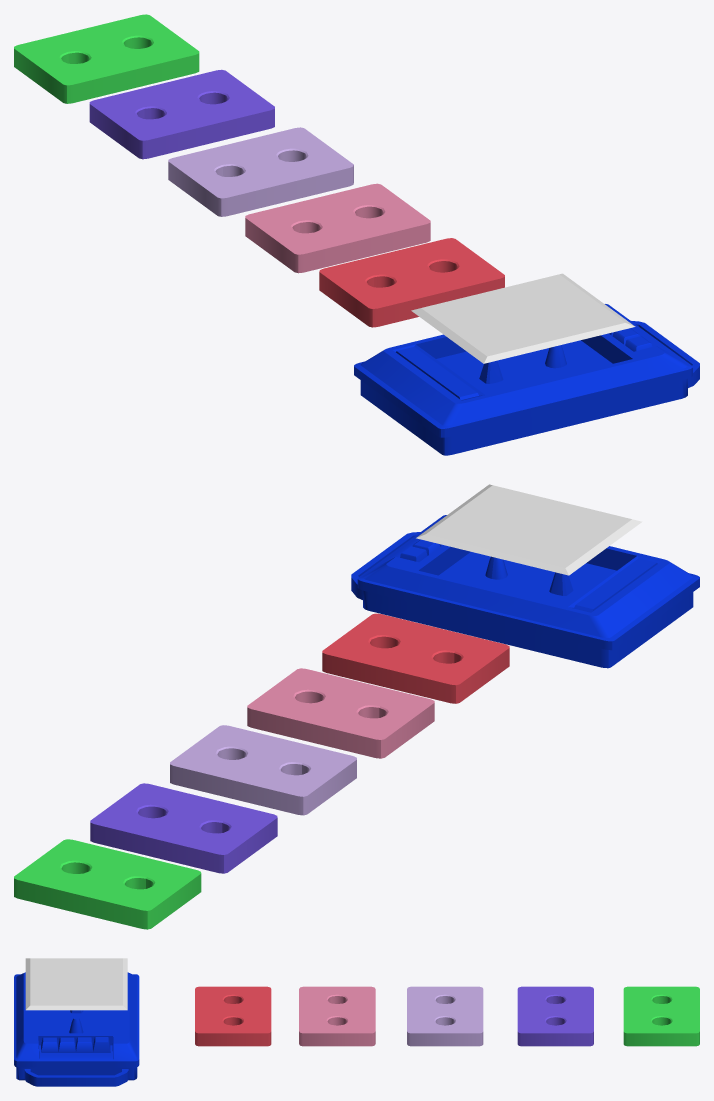
Rendered from CassetteTapesAndPlayer.fbx.
3 views of the same model, one above another, from view 1: azimuth 30°, elevation 25°; view 2: azimuth 150°, elevation 25°; view 3: azimuth 270°, elevation 25° (orthographic). The views are drawn at different scales.
Visible parts, largest first — view 1: CassettePlayer, CPlayerCover, Cassette5, Cassette3, Cassette2, Cassette4, Cassette1; view 2: CassettePlayer, CPlayerCover, Cassette4, Cassette1, Cassette2, Cassette5, Cassette3; view 3: CassettePlayer, CPlayerCover, Cassette1, Cassette2, Cassette4, Cassette3, Cassette5.
Boxes of the visible parts, x1,y1,x2,y2 form: CassettePlayer: (354,304,699,455); CPlayerCover: (411,273,635,363); Cassette5: (14,14,199,103); Cassette3: (168,127,353,216); Cassette2: (245,183,430,273); Cassette4: (89,69,274,159); Cassette1: (319,238,504,327); CassettePlayer: (351,515,699,668); CPlayerCover: (416,484,642,575); Cassette4: (90,783,277,873); Cassette1: (322,613,509,703); Cassette2: (247,668,434,758); Cassette5: (14,839,201,929); Cassette3: (170,725,356,815); CassettePlayer: (14,972,139,1086); CPlayerCover: (25,958,127,1010); Cassette1: (195,986,271,1046); Cassette2: (299,986,375,1046); Cassette4: (517,986,593,1046); Cassette3: (407,986,483,1046); Cassette5: (623,986,699,1046).
Size of the model in its own units: 369 by 102 by 1134.
